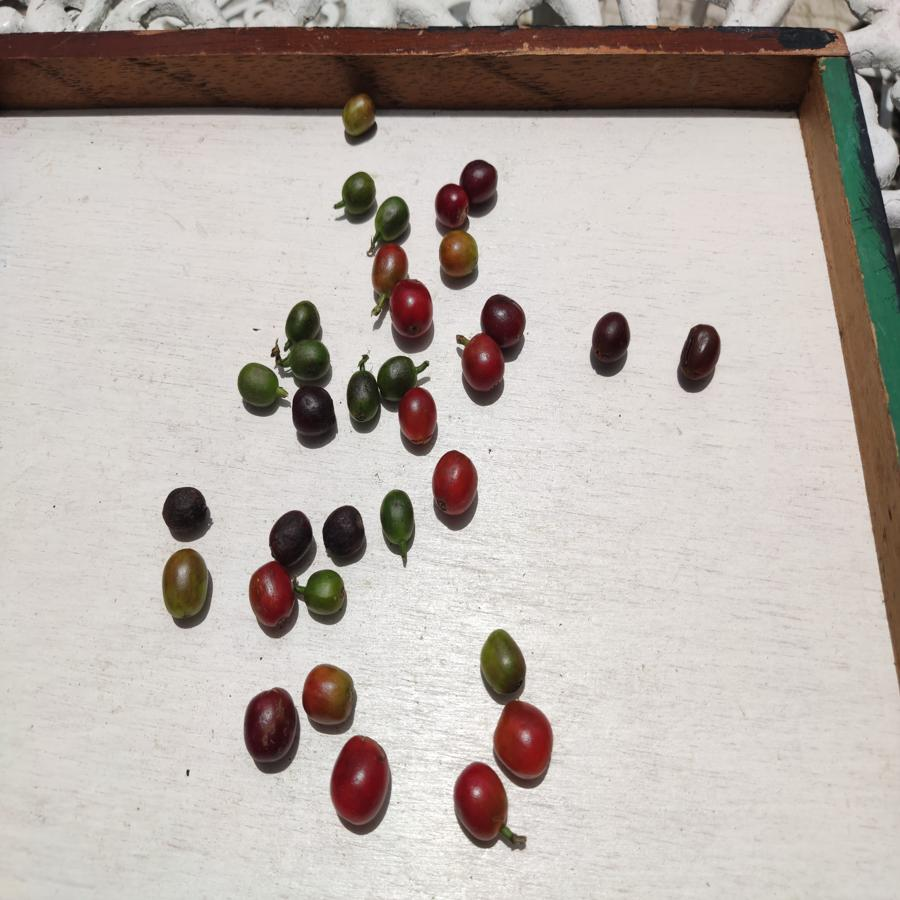Inmaduro: (342, 369, 381, 426), (302, 570, 350, 616), (380, 490, 416, 550), (236, 363, 280, 408), (286, 341, 331, 380), (339, 169, 374, 218), (374, 194, 409, 241), (283, 300, 325, 337), (377, 356, 424, 386)
Maduro: (329, 736, 389, 828), (492, 698, 554, 780), (455, 762, 509, 846), (432, 449, 481, 518), (248, 562, 295, 630), (388, 277, 436, 337), (462, 334, 505, 392), (398, 388, 437, 448)
Pinton: (161, 549, 212, 621), (300, 661, 355, 724), (479, 626, 527, 695), (437, 232, 479, 279), (340, 91, 379, 139), (371, 244, 396, 296)
Sobremaduro: (245, 686, 296, 764), (163, 482, 215, 532), (679, 322, 722, 381), (266, 510, 312, 564), (323, 504, 366, 561), (290, 387, 342, 434), (592, 312, 634, 366), (480, 291, 528, 333), (462, 158, 501, 206), (435, 185, 468, 226)
